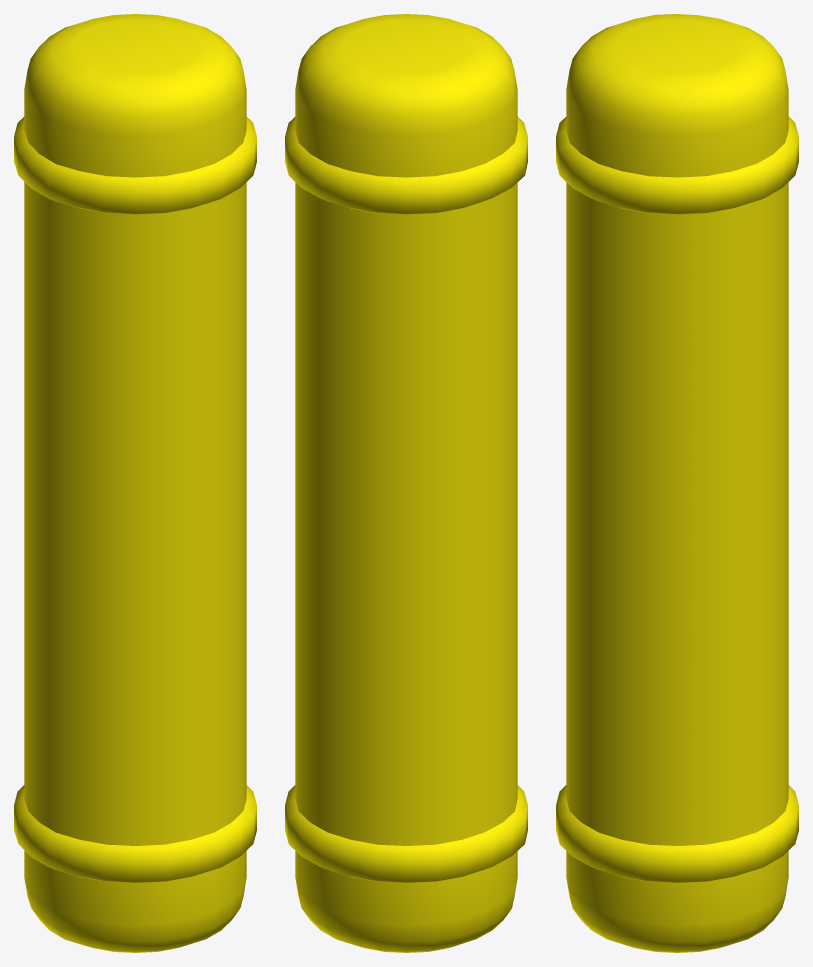
File: Addition_Building_Machine_02a_snaps016.fbx
3 views of the same model, side by side, from view 1: azimuth 30°, elevation 25°; view 2: azimuth 150°, elevation 25°; view 3: azimuth 270°, elevation 25° (orthographic).
Visible parts, largest first — view 1: Addition_Building_Machine_02a_snaps016_LOD0; view 2: Addition_Building_Machine_02a_snaps016_LOD0; view 3: Addition_Building_Machine_02a_snaps016_LOD0.
Boxes of the visible parts, x1=… form: Addition_Building_Machine_02a_snaps016_LOD0: x1=14, y1=14, x2=256, y2=952; Addition_Building_Machine_02a_snaps016_LOD0: x1=285, y1=14, x2=527, y2=952; Addition_Building_Machine_02a_snaps016_LOD0: x1=556, y1=14, x2=798, y2=952.
Size of what is drawn, in the model's own units: 0.47 by 1.87 by 0.47.
